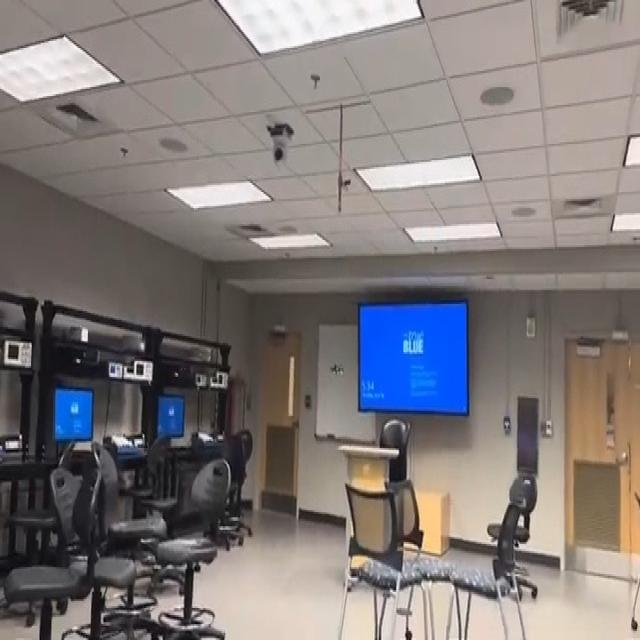drone: (327, 347, 352, 386)
